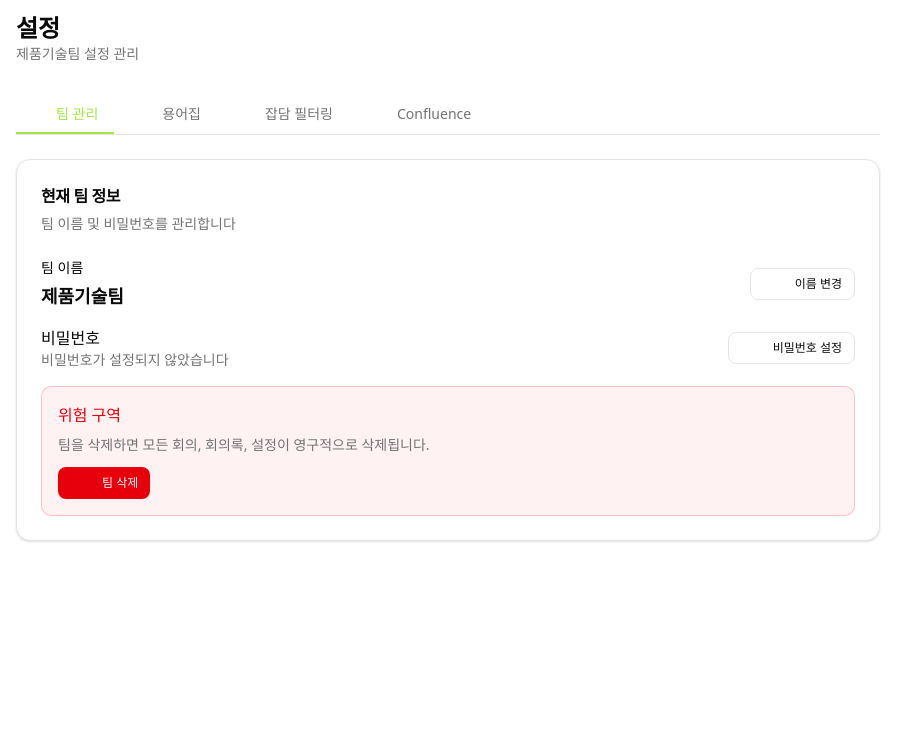
Scenario: SettingsPage › Add Vocabulary › shows add form on button click
Click the button "용어집": point(170, 115) [122,96,217,134]
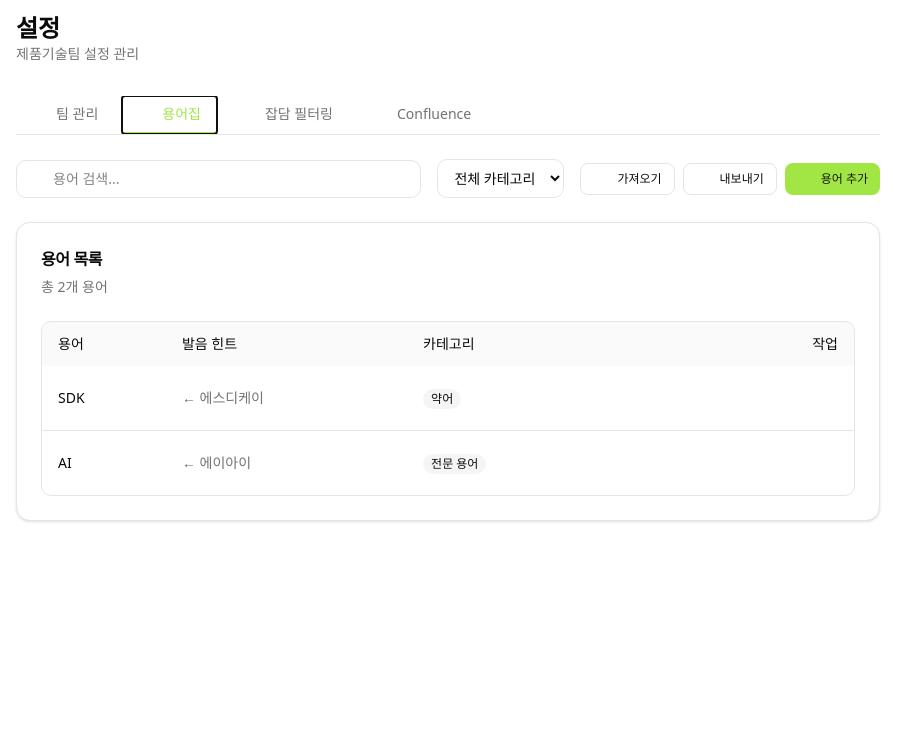
Click the button "용어 추가": point(832, 178) [785,162,880,194]
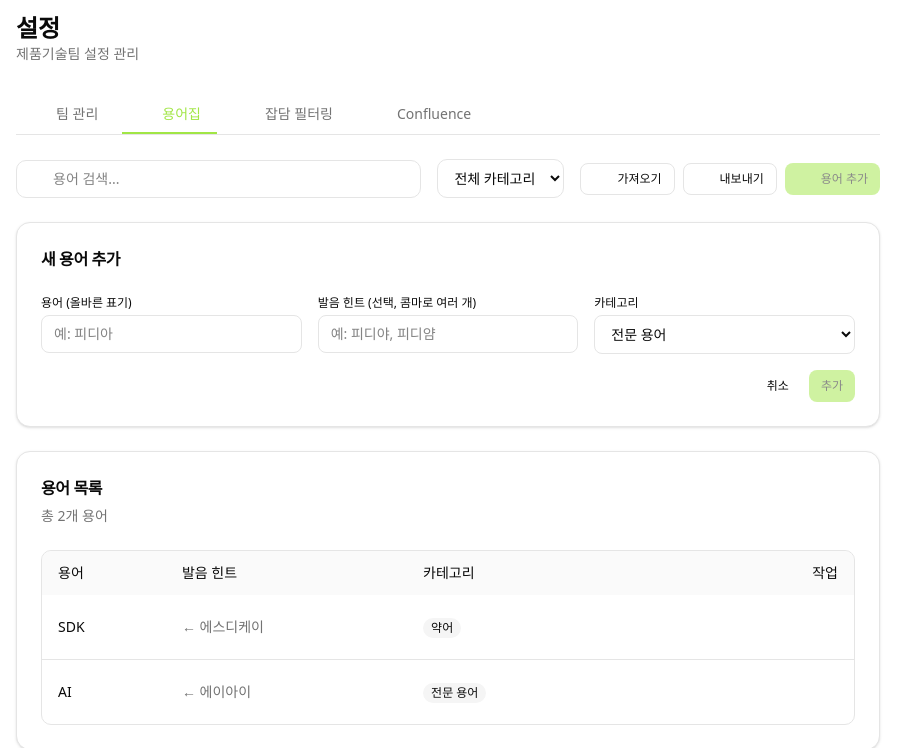
Check: the heading "새 용어 추가" is shown, box [41,248,120,270]
